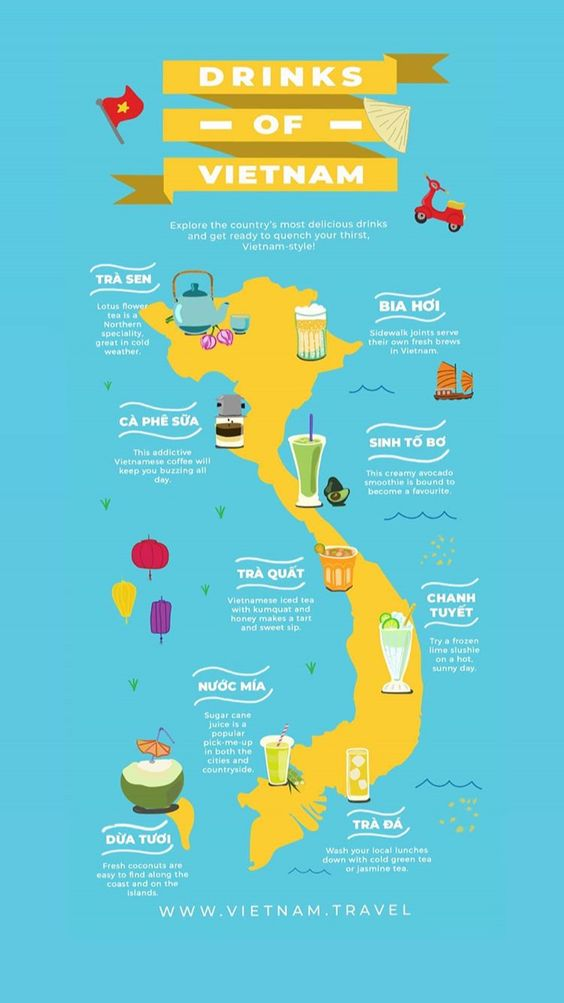Island: (409, 529, 471, 584), (438, 788, 480, 834)
